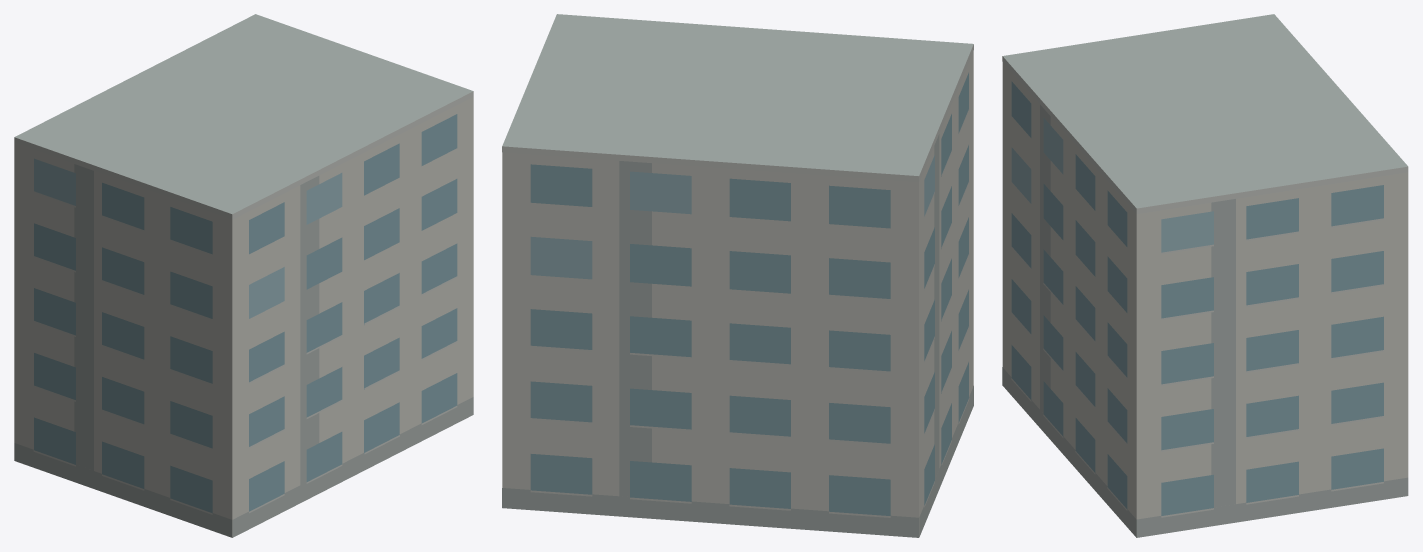
The model's file is survey-upis-32863998.glb.
The picture shows the model from 3 angles, left to right: view 1: azimuth 30°, elevation 25°; view 2: azimuth 150°, elevation 25°; view 3: azimuth 270°, elevation 25°; orthographic projection. The views are drawn at different scales.
Visible parts, largest first — view 1: survey-upis-32863998.tmp; view 2: survey-upis-32863998.tmp; view 3: survey-upis-32863998.tmp.
Boxes of the visible parts, box(x1,y1,x2,y2) form: survey-upis-32863998.tmp: box(14, 14, 473, 537); survey-upis-32863998.tmp: box(502, 14, 973, 537); survey-upis-32863998.tmp: box(1002, 14, 1408, 537).
Size of the model in its own units: 18.25 by 14.4 by 16.09.
